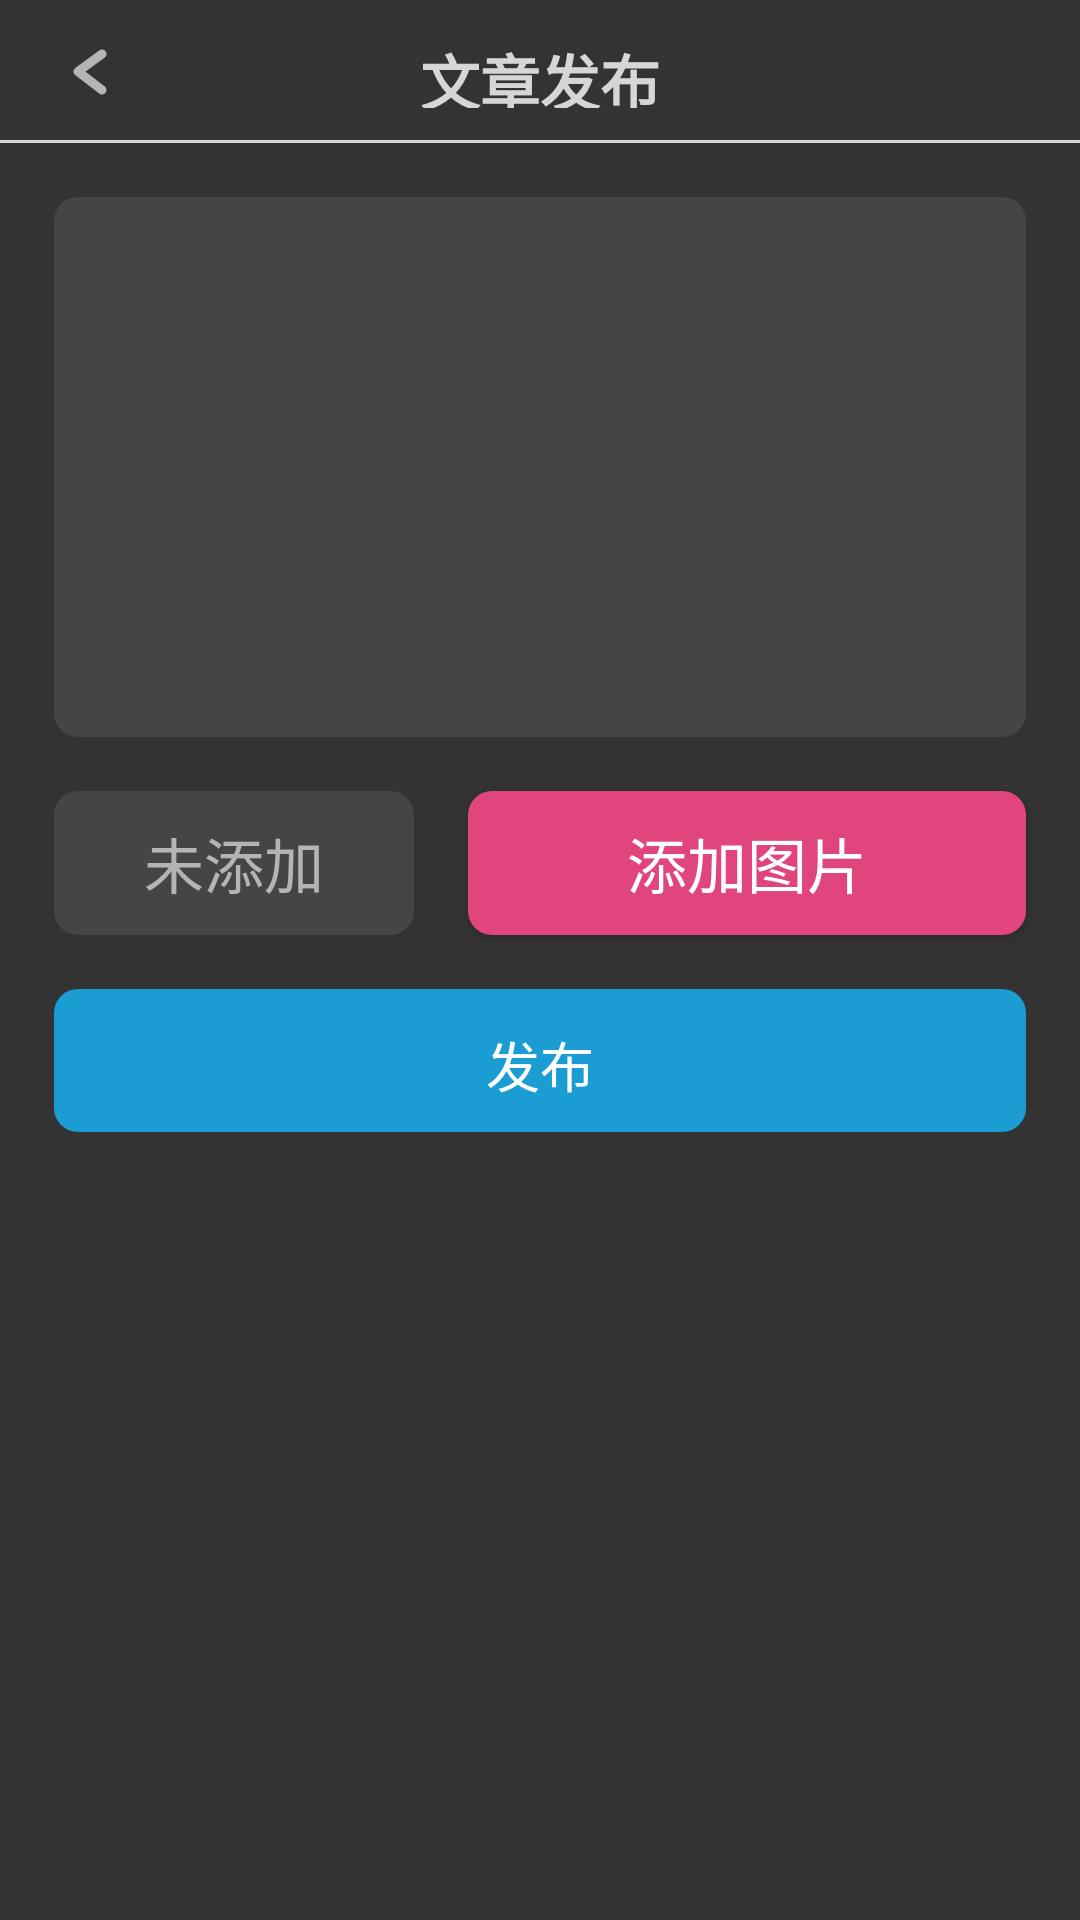

Where icons sit on this 1080×1920 app screen, as (x1, y1, x2, y2):
back: (73, 49, 107, 95)
